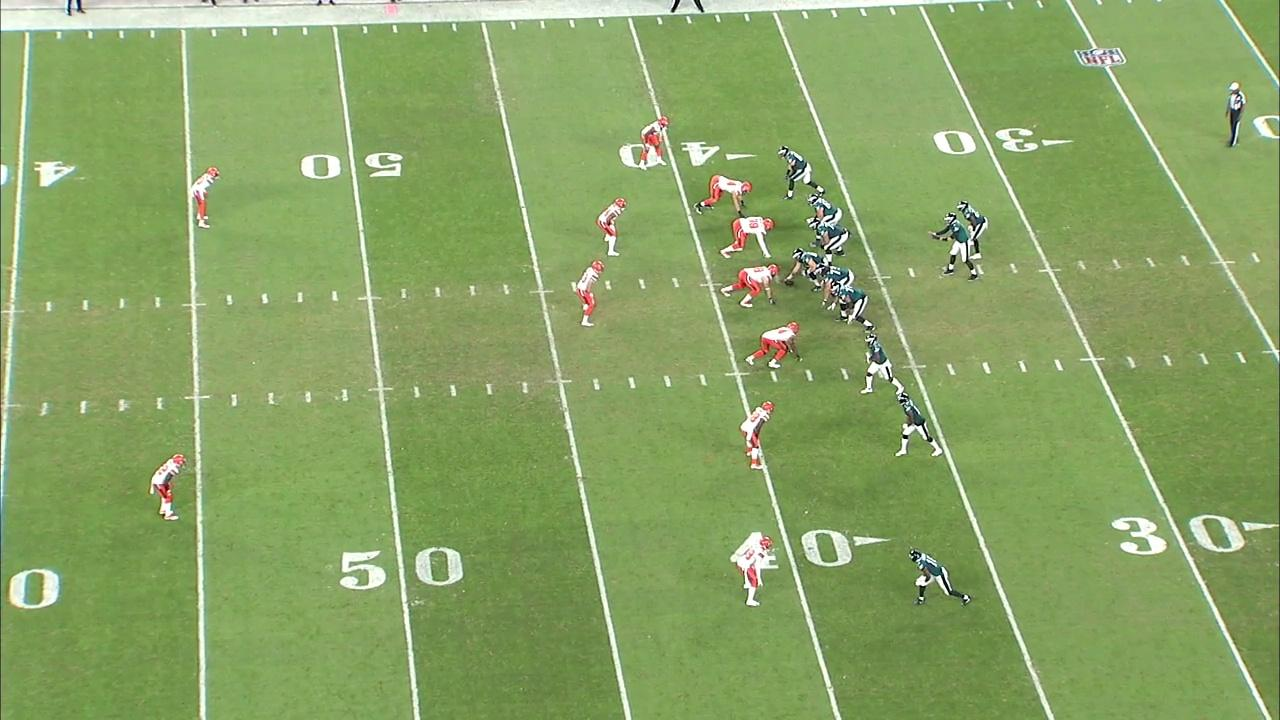defense: (148, 452, 190, 524), (744, 320, 804, 370), (719, 262, 781, 309), (735, 535, 774, 608), (692, 173, 753, 219), (738, 398, 775, 472), (718, 215, 776, 260), (188, 164, 223, 231), (575, 259, 606, 328), (595, 196, 628, 258), (636, 114, 671, 172)
oline: (828, 282, 877, 334), (808, 216, 852, 268), (805, 192, 844, 249), (782, 246, 829, 292), (815, 262, 855, 311)
qb: (927, 211, 980, 283)
ref: (1221, 80, 1249, 150)
skill: (906, 546, 974, 608), (892, 391, 945, 460), (859, 333, 906, 398), (776, 144, 827, 201), (954, 199, 989, 262)
